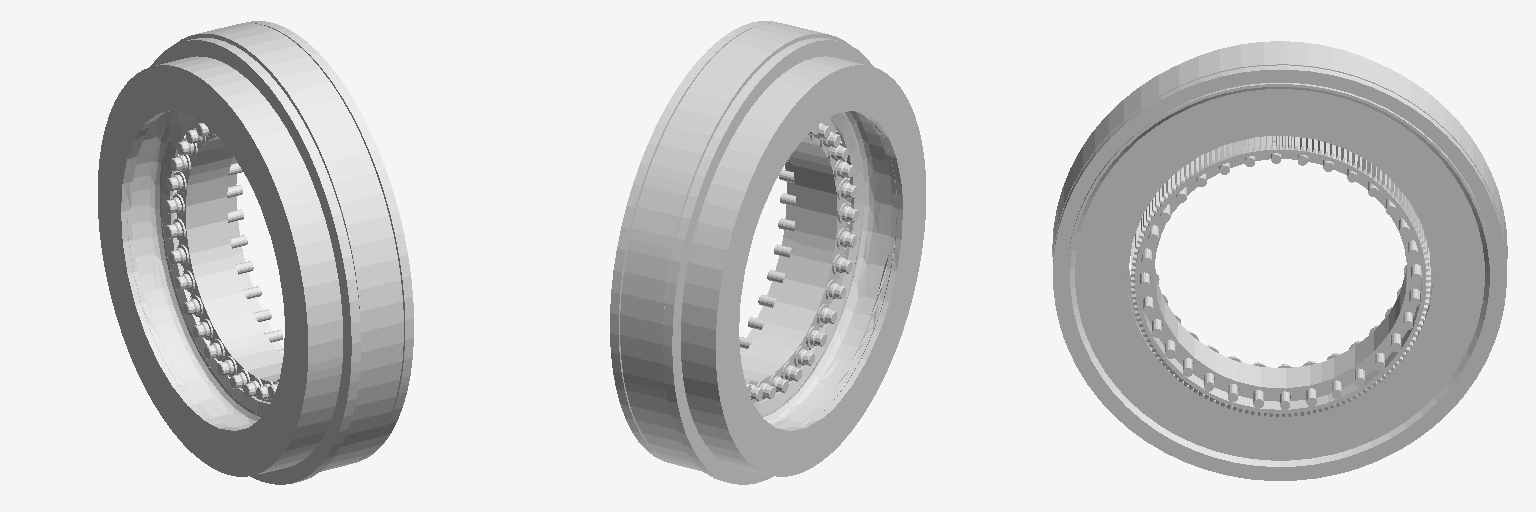
Rendered from Freno de servicio.obj.
3 views of the same model, side by side, from view 1: azimuth 30°, elevation 25°; view 2: azimuth 150°, elevation 25°; view 3: azimuth 270°, elevation 25° (orthographic).
Visible parts, largest first — view 1: CILINDRO_PISTON:2, CORONA_FRENO_SERVICIO:1, PISTON:1, CORONA_FRENOS_DE_SERVICIO_EXTRA:1, TAPA_FRENO_SERVICIO:1, CORONA_FRENO_SERVICIO-INTERNO:1; view 2: CILINDRO_PISTON:2, CORONA_FRENO_SERVICIO:1, PISTON:1, CORONA_FRENOS_DE_SERVICIO_EXTRA:1, TAPA_FRENO_SERVICIO:1, CORONA_FRENO_SERVICIO-INTERNO:1; view 3: TAPA_FRENO_SERVICIO:1, CORONA_FRENO_SERVICIO-INTERNO:1, CORONA_FRENOS_DE_SERVICIO_EXTRA:1, CORONA_FRENO_SERVICIO:1.
Boxes of the visible parts, x1,y1,x2,y2 form: CILINDRO_PISTON:2: [98, 38, 360, 484]; CORONA_FRENO_SERVICIO:1: [173, 23, 403, 471]; PISTON:1: [131, 111, 270, 428]; CORONA_FRENOS_DE_SERVICIO_EXTRA:1: [177, 122, 283, 384]; TAPA_FRENO_SERVICIO:1: [187, 21, 413, 463]; CORONA_FRENO_SERVICIO-INTERNO:1: [227, 156, 283, 349]; CILINDRO_PISTON:2: [663, 38, 925, 484]; CORONA_FRENO_SERVICIO:1: [620, 23, 850, 471]; PISTON:1: [753, 111, 892, 428]; CORONA_FRENOS_DE_SERVICIO_EXTRA:1: [741, 135, 846, 400]; TAPA_FRENO_SERVICIO:1: [610, 21, 836, 463]; CORONA_FRENO_SERVICIO-INTERNO:1: [740, 162, 795, 355]; TAPA_FRENO_SERVICIO:1: [1053, 65, 1506, 480]; CORONA_FRENO_SERVICIO-INTERNO:1: [1131, 136, 1430, 416]; CORONA_FRENOS_DE_SERVICIO_EXTRA:1: [1139, 136, 1421, 401]; CORONA_FRENO_SERVICIO:1: [1053, 43, 1506, 258].
Bounding box in the file's own units: 2.91 × 10.92 × 10.81.